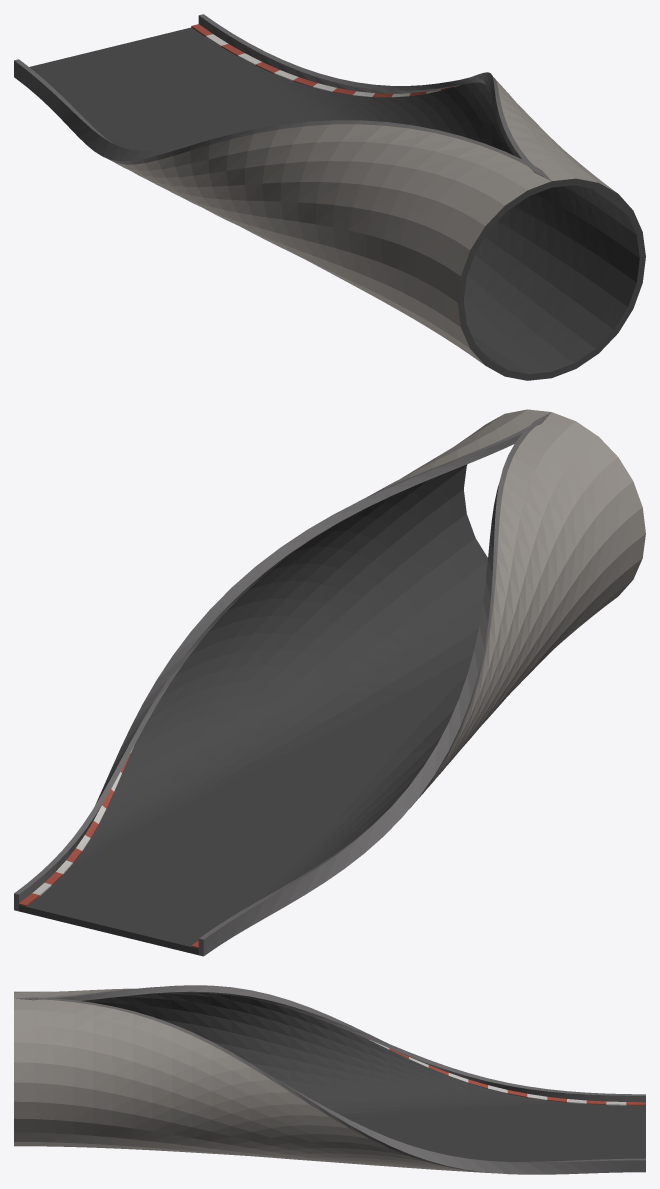
File: tp-pipe-entry.glb
3 renders of one model, top to bottom at view 1: azimuth 30°, elevation 25°; view 2: azimuth 150°, elevation 25°; view 3: azimuth 270°, elevation 25°, orthographic. The views are drawn at different scales.
Visible parts, largest first — view 1: tp-pipe-entry; view 2: tp-pipe-entry; view 3: tp-pipe-entry.
Part boxes in pixels (box(x1,y1,x2,y2)): tp-pipe-entry: box(14, 14, 645, 380); tp-pipe-entry: box(14, 409, 645, 956); tp-pipe-entry: box(14, 985, 645, 1174).
Size of what is drawn, in the model's own units: 23.75 by 15.33 by 62.42.
1 material, 1 textured.
